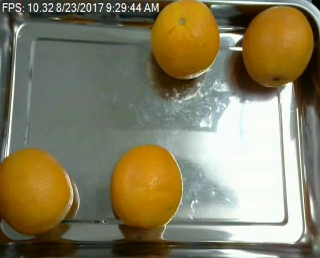Orange: (1, 149, 74, 234), (110, 143, 184, 226), (241, 6, 314, 87), (150, 1, 221, 79)
